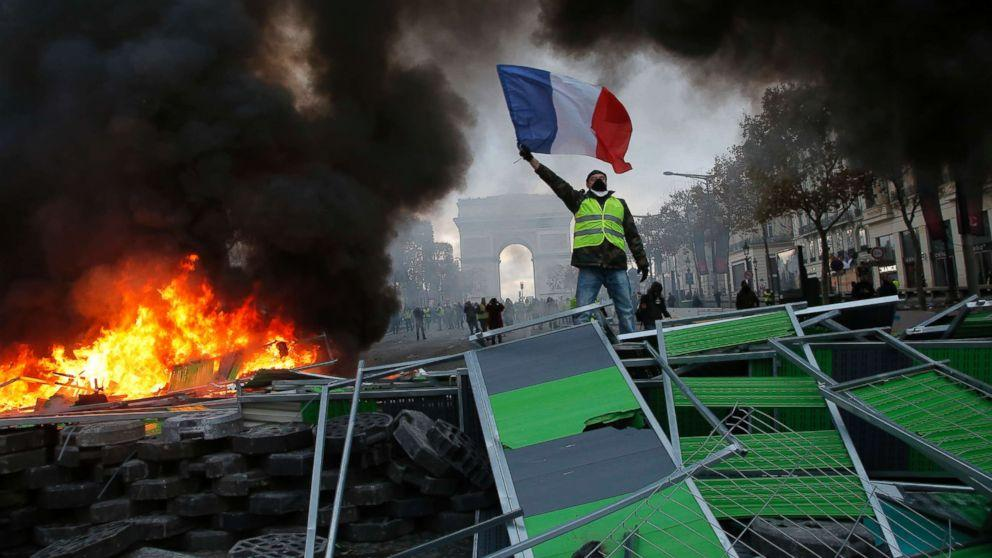Fire: (2, 259, 363, 433)
